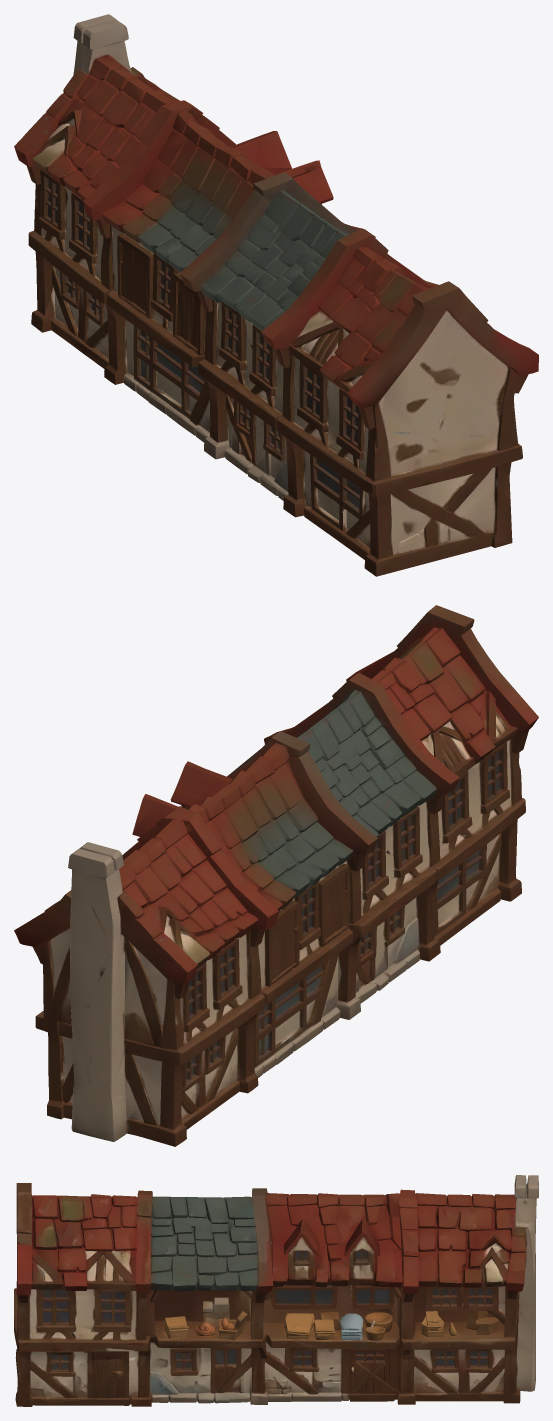
The picture shows the model from 3 angles, top to bottom: view 1: azimuth 30°, elevation 25°; view 2: azimuth 150°, elevation 25°; view 3: azimuth 270°, elevation 25°; orthographic projection. The views are drawn at different scales.
Parts seen in each view (by area): view 1: model; view 2: model; view 3: model.
Part boxes in pixels (x1,y1,x2,y2): model: (14,14,538,576); model: (14,605,538,1146); model: (14,1175,538,1406).
Size of the model in its own units: 0.5716 by 0.8162 by 1.9.
1 material, 1 textured.
